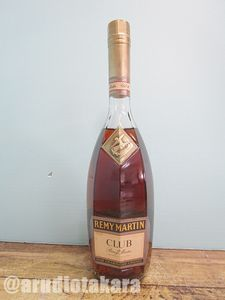Remy Martin: (77, 14, 167, 292)
